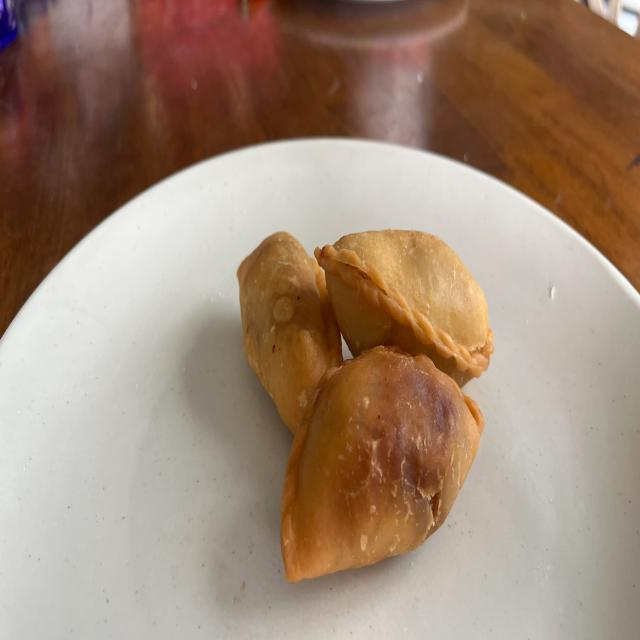karipap: (281, 345, 482, 584), (315, 228, 492, 384), (237, 231, 343, 438)
